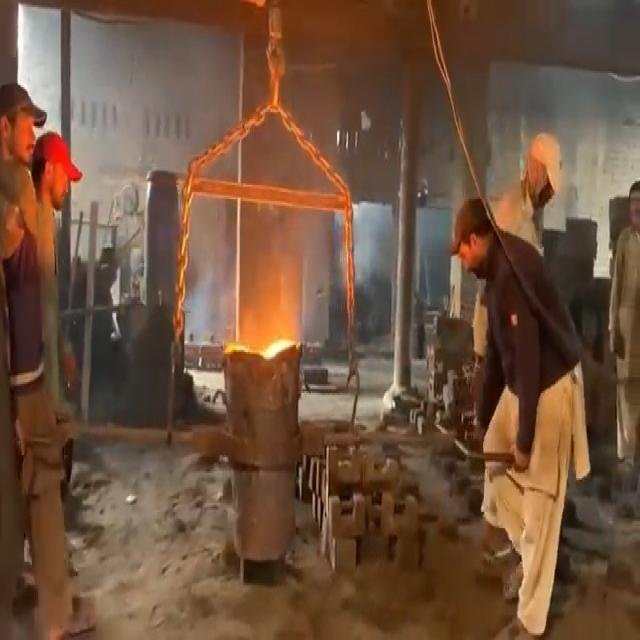dress: (469, 235, 592, 634)
